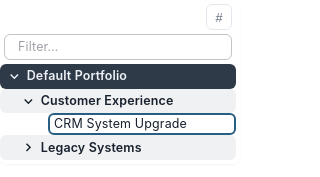
Test: HierarchyTree › arrow button collapses without navigating
Expected: the text "CRM System Upgrade" is shown, left=54, top=115, right=187, bottom=133
Click the button named "Collapse Customer Experience" at (28, 101), box left=18, top=91, right=39, bottom=111
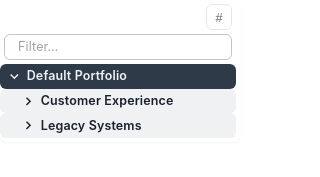
Expected: the text "CRM System Upgrade" is gone
